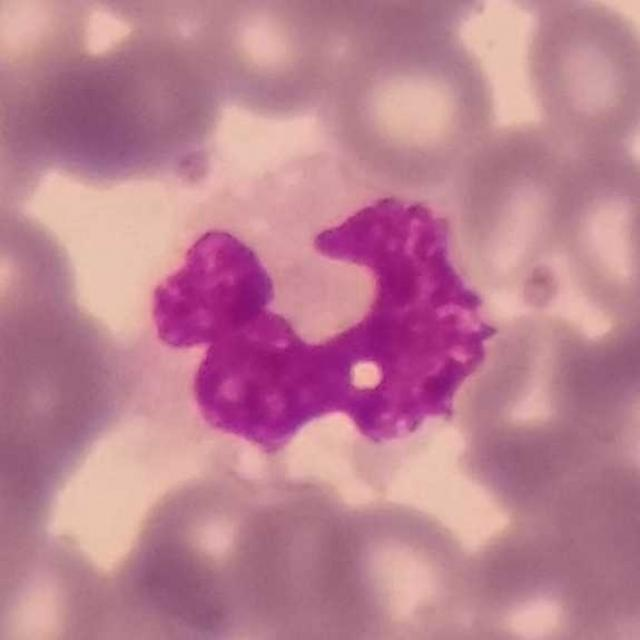Monocyte: (123, 158, 506, 468)
RBC: (452, 308, 635, 496), (26, 23, 224, 186), (319, 14, 502, 190), (117, 468, 302, 636), (301, 489, 492, 640), (448, 124, 596, 312), (448, 493, 636, 640), (219, 486, 390, 640), (0, 298, 131, 479), (184, 0, 358, 119), (538, 142, 640, 329), (535, 454, 639, 633), (516, 0, 640, 148), (57, 543, 238, 640), (0, 524, 126, 640), (0, 195, 86, 362), (0, 428, 55, 614), (0, 50, 48, 226), (292, 0, 490, 41), (66, 0, 246, 29), (373, 614, 570, 640)
